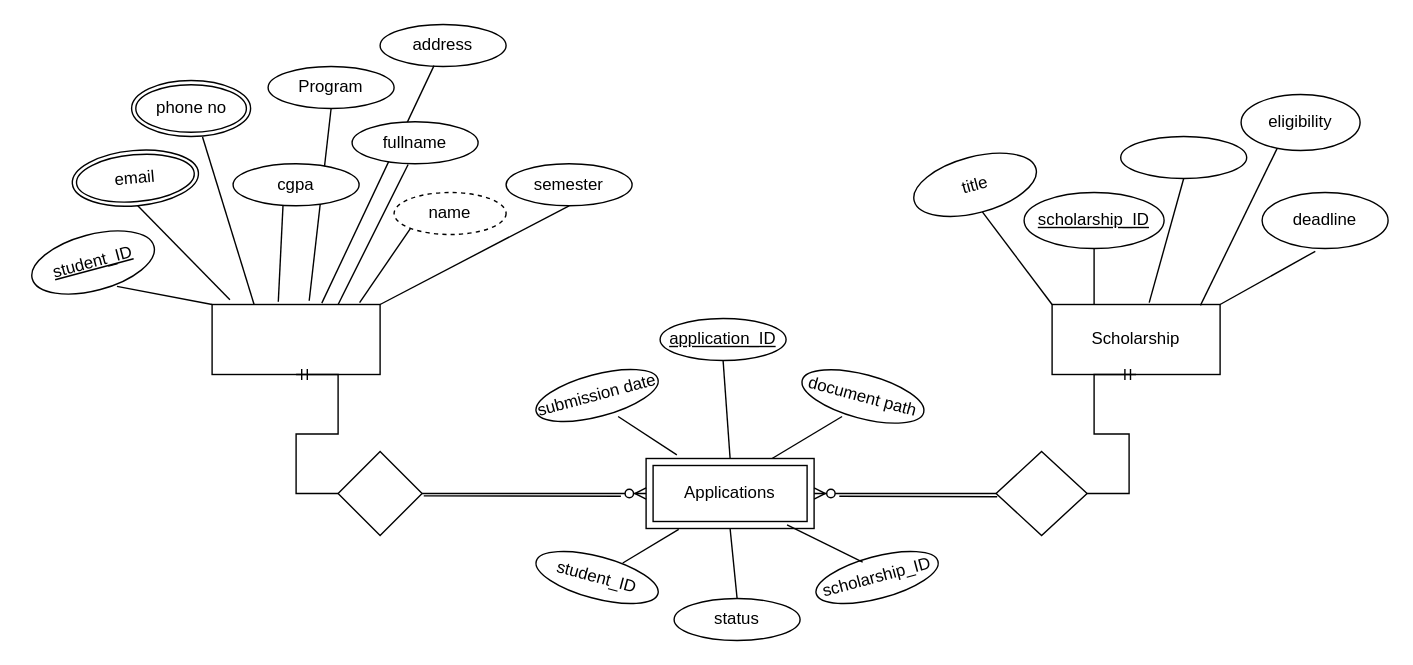
Some shapes in this 1413 by 665 pixel diagram are drawn without their labels. Here are the shapes that lost their labels. From the top down, the centre of each, then its label:
At [1183,156]: "description".
At [295,338]: "Students".
At [379,493]: "Submit".
At [1041,493]: "Made for".
